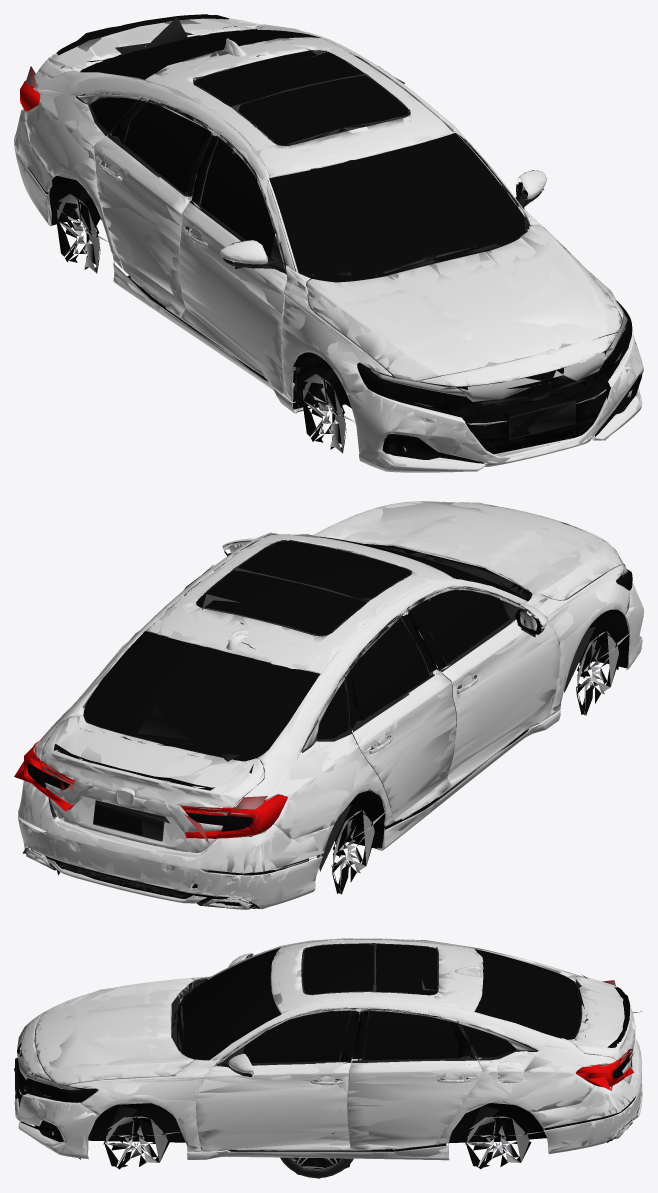
File: sedan8.glb
The picture shows the model from 3 angles, top to bottom: view 1: azimuth 30°, elevation 25°; view 2: azimuth 150°, elevation 25°; view 3: azimuth 270°, elevation 25°; orthographic projection. The views are drawn at different scales.
Visible parts, largest first — view 1: body0, body2, body1; view 2: body0, body2, body1; view 3: body0, body2, body1, wheel0.
Boxes of the visible parts, <box> form: body0: <box>14,14,643,472</box>; body2: <box>14,15,643,471</box>; body1: <box>14,18,643,472</box>; body0: <box>18,501,643,909</box>; body2: <box>14,501,641,909</box>; body1: <box>18,501,643,908</box>; body0: <box>14,938,642,1160</box>; body2: <box>14,938,641,1169</box>; body1: <box>15,938,642,1160</box>; wheel0: <box>280,1157,353,1178</box>.
Size of the model in its own units: 2.18 by 1.82 by 4.99.
